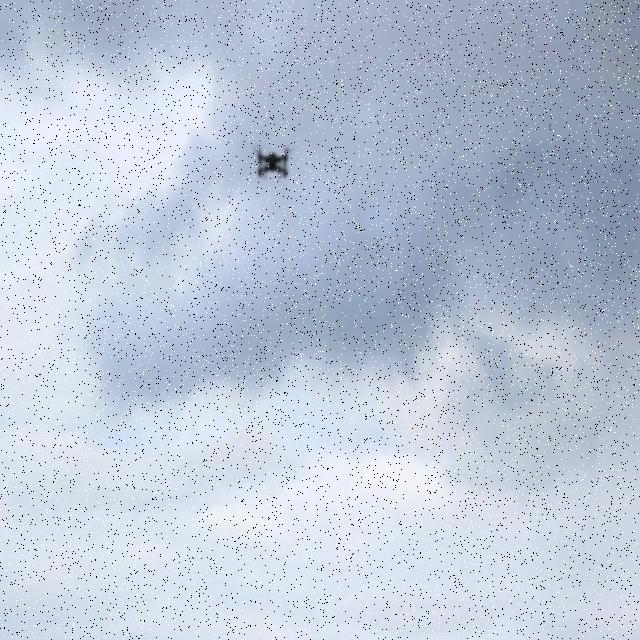UAV: (256, 147, 290, 181)
